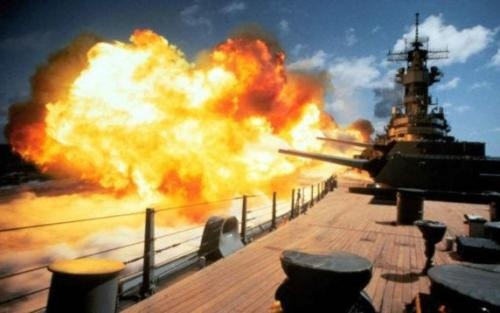fire: (24, 27, 356, 224)
